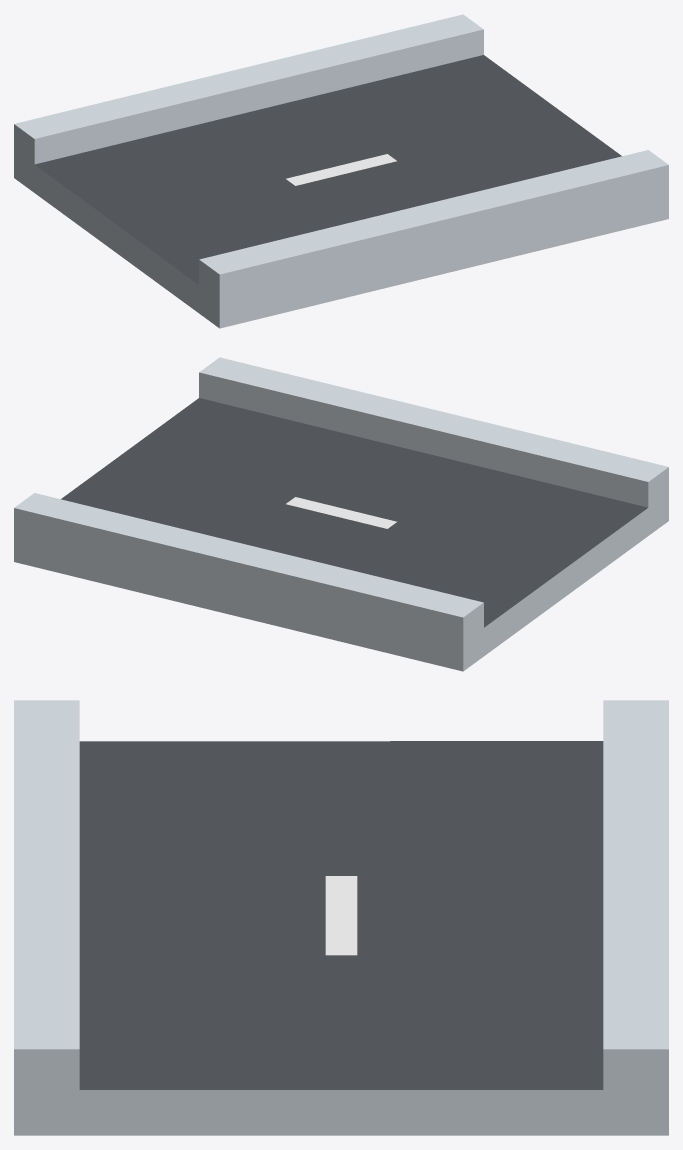
Rendered from Straight Road.fbx.
The picture shows the model from 3 angles, top to bottom: view 1: azimuth 30°, elevation 25°; view 2: azimuth 150°, elevation 25°; view 3: azimuth 270°, elevation 25°; orthographic projection. The views are drawn at different scales.
Parts seen in each view (by area): view 1: polySurface923; view 2: polySurface923; view 3: polySurface923.
Boxes of the visible parts, box(x1,y1,x2,y2) form: polySurface923: box(14, 14, 668, 328); polySurface923: box(14, 357, 668, 671); polySurface923: box(14, 700, 668, 1135).
Bounding box in the file's own units: 23.27 × 2.68 × 18.46.
Materials: 1 (1 with a texture image).
